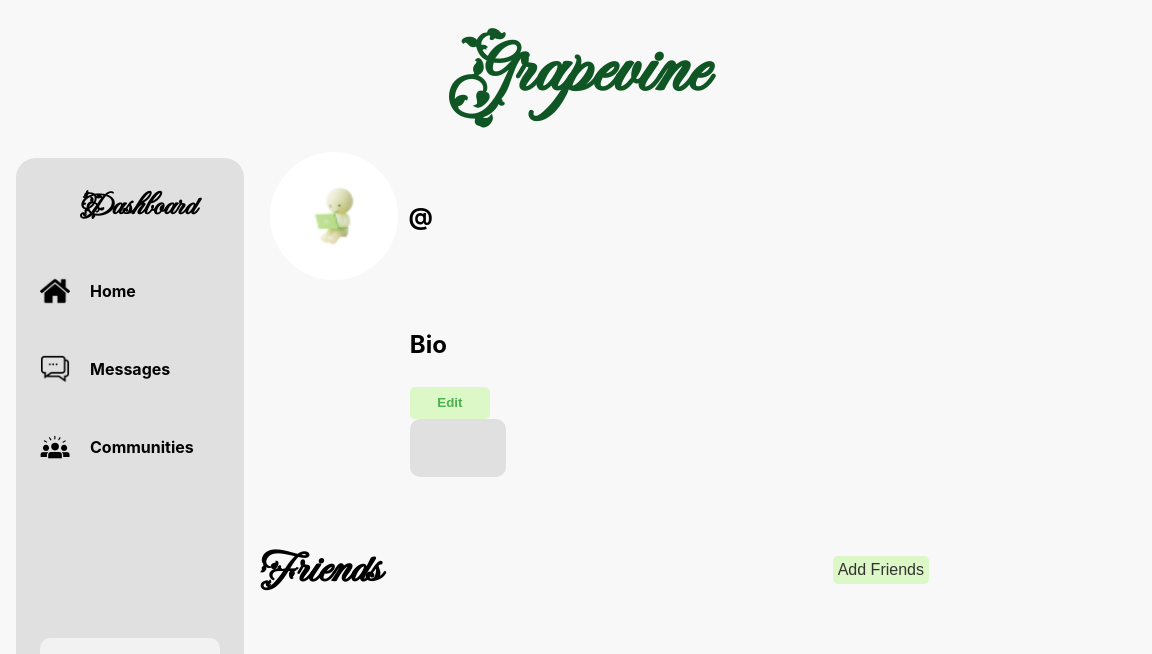
Test case: Profile Component › A prompt box to edit bio will appear
Click the button "Edit": (450, 403) top-left (410, 387), bottom-right (490, 419)
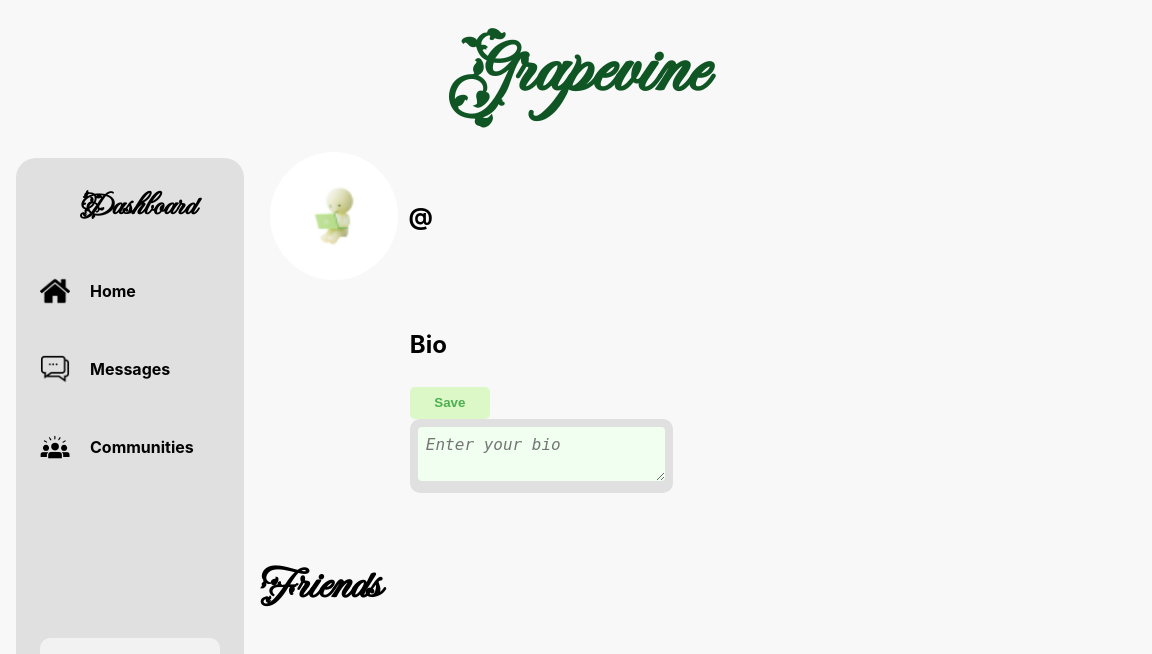
Result: the text box with placeholder "Enter your bio" is shown at top-left (418, 427), bottom-right (665, 481)
